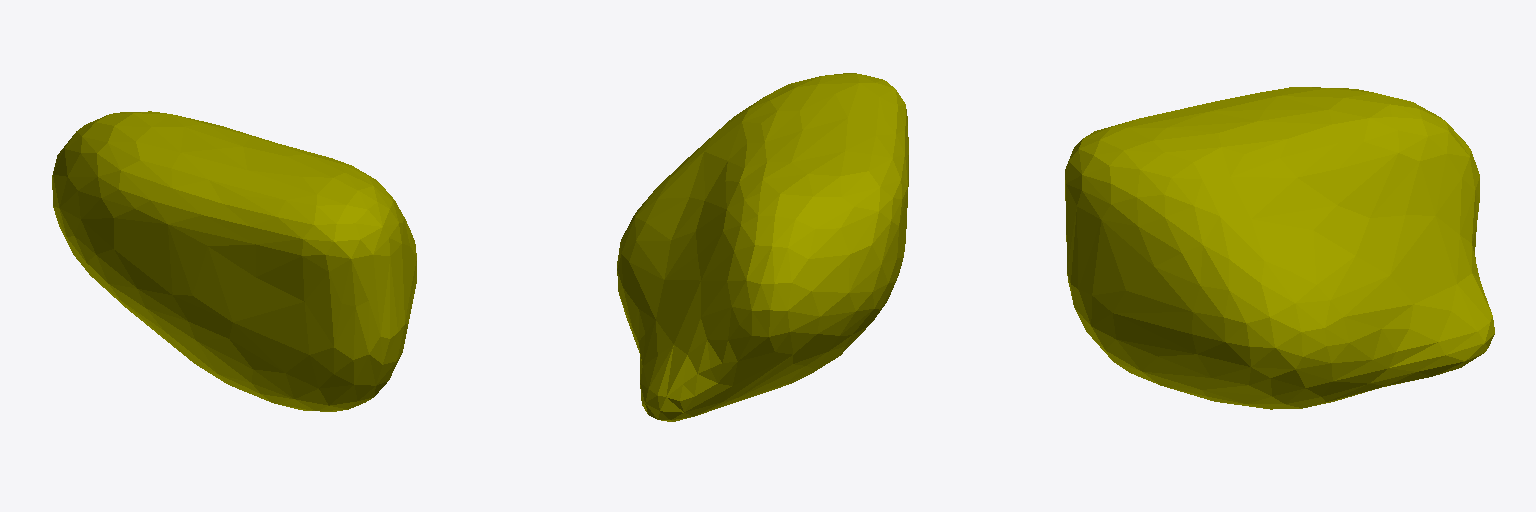
File: SpC.obj
The picture shows the model from 3 angles: view 1: azimuth 30°, elevation 25°; view 2: azimuth 150°, elevation 25°; view 3: azimuth 270°, elevation 25°; orthographic projection.
Parts seen in each view (by area): view 1: SpC_SpC.004; view 2: SpC_SpC.004; view 3: SpC_SpC.004.
Boxes of the visible parts, <box> form: SpC_SpC.004: <box>52,111,416,411</box>; SpC_SpC.004: <box>617,73,908,421</box>; SpC_SpC.004: <box>1065,87,1494,409</box>.
Size of the model in its own units: 1.23 by 1.01 by 1.59.